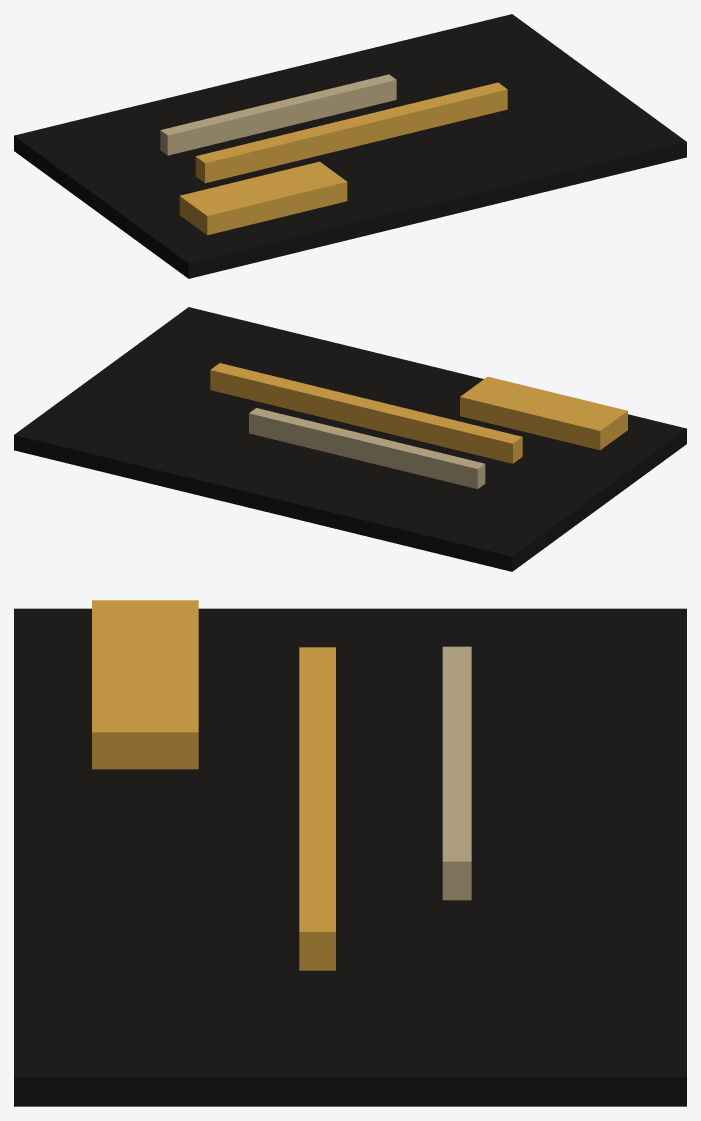
Rendered from floating-scholarship-card.obj.
The picture shows the model from 3 angles, top to bottom: view 1: azimuth 30°, elevation 25°; view 2: azimuth 150°, elevation 25°; view 3: azimuth 270°, elevation 25°; orthographic projection. The views are drawn at different scales.
Visible parts, largest first — view 1: geometry_0, geometry_2, geometry_1, geometry_3; view 2: geometry_0, geometry_2, geometry_1, geometry_3; view 3: geometry_0, geometry_1, geometry_2, geometry_3.
Boxes of the visible parts, bbox=[...] form: geometry_0: bbox=[14, 14, 686, 278]; geometry_2: bbox=[195, 82, 507, 183]; geometry_1: bbox=[179, 161, 347, 235]; geometry_3: bbox=[160, 74, 396, 155]; geometry_0: bbox=[14, 307, 686, 571]; geometry_2: bbox=[210, 363, 522, 463]; geometry_1: bbox=[460, 376, 627, 450]; geometry_3: bbox=[249, 408, 485, 489]; geometry_0: bbox=[14, 608, 686, 1106]; geometry_1: bbox=[92, 600, 198, 769]; geometry_2: bbox=[299, 647, 335, 970]; geometry_3: bbox=[442, 646, 471, 900].
Bounding box in the file's own units: 1.35 × 0.103 × 0.82.
